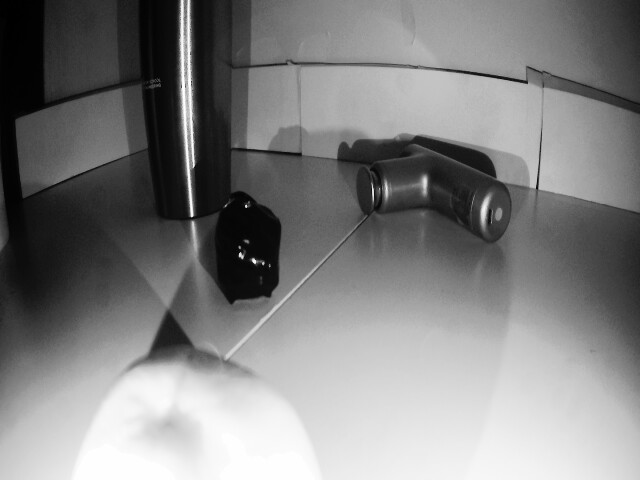silver: (210, 194, 293, 306)
